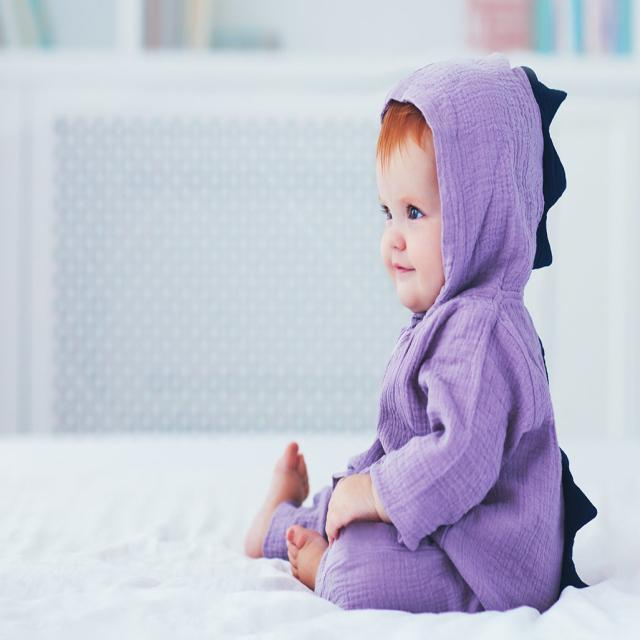non-dog: (244, 55, 595, 617)
